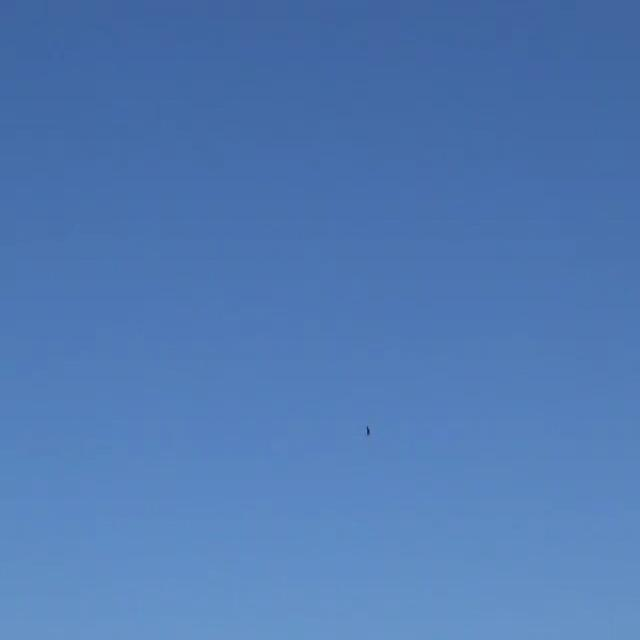bird: (363, 422, 372, 438)
